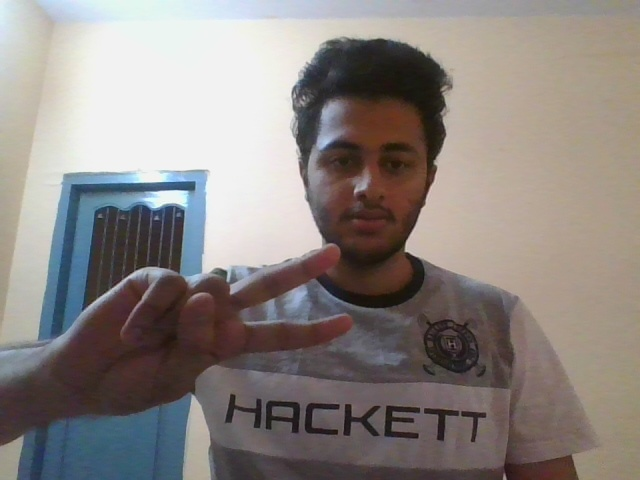Peace: (49, 240, 355, 416)
